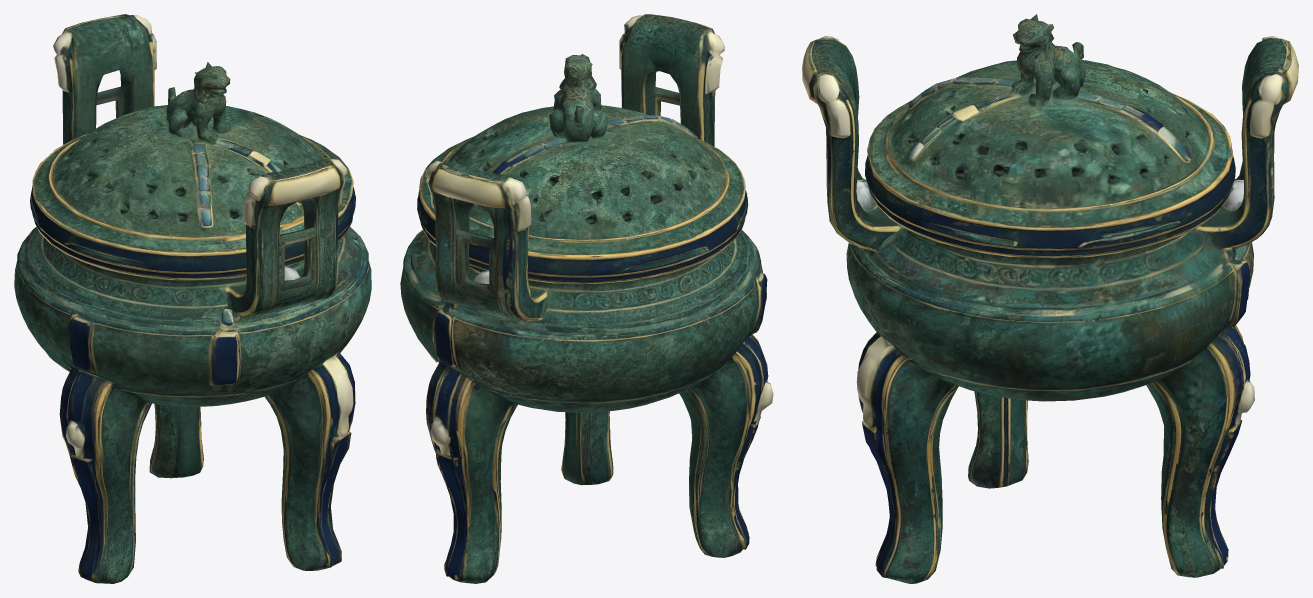
The model's file is incense_burner.glb.
3 renders of one model, left to right at view 1: azimuth 30°, elevation 25°; view 2: azimuth 150°, elevation 25°; view 3: azimuth 270°, elevation 25°, orthographic. The views are drawn at different scales.
Visible parts, largest first — view 1: tripo_node_45f9fbcd-4dde-43ad-a840-f6fc7c6e5a97; view 2: tripo_node_45f9fbcd-4dde-43ad-a840-f6fc7c6e5a97; view 3: tripo_node_45f9fbcd-4dde-43ad-a840-f6fc7c6e5a97.
Part boxes in pixels (x1=…): tripo_node_45f9fbcd-4dde-43ad-a840-f6fc7c6e5a97: x1=14, y1=14, x2=371, y2=583; tripo_node_45f9fbcd-4dde-43ad-a840-f6fc7c6e5a97: x1=400, y1=14, x2=773, y2=583; tripo_node_45f9fbcd-4dde-43ad-a840-f6fc7c6e5a97: x1=802, y1=14, x2=1298, y2=583.
Bounding box in the file's own units: 0.7009 × 1 × 0.856.
1 material, 1 textured.
